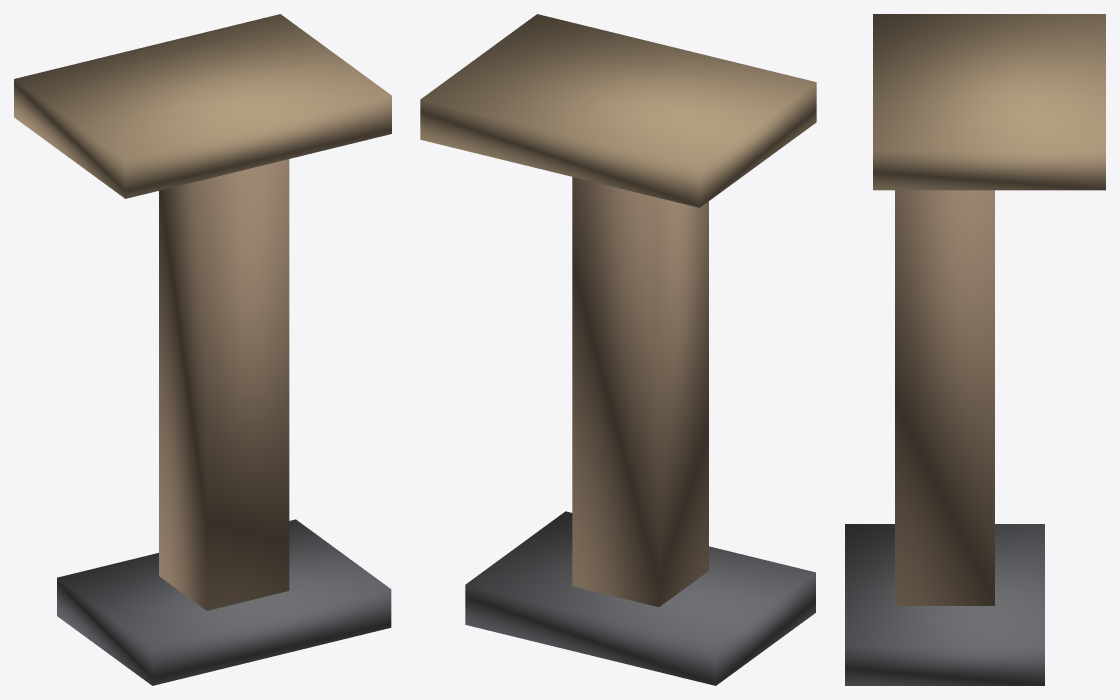
Rendered from lectern.glb.
The picture shows the model from 3 angles, left to right: view 1: azimuth 30°, elevation 25°; view 2: azimuth 150°, elevation 25°; view 3: azimuth 270°, elevation 25°; orthographic projection. The views are drawn at different scales.
Parts seen in each view (by area): view 1: world; view 2: world; view 3: world.
Part boxes in pixels (x1,y1,x2,y2): world: (14,14,391,685); world: (420,14,816,685); world: (845,14,1105,685).
Bounding box in the file's own units: 0.58 × 1.08 × 0.47.
